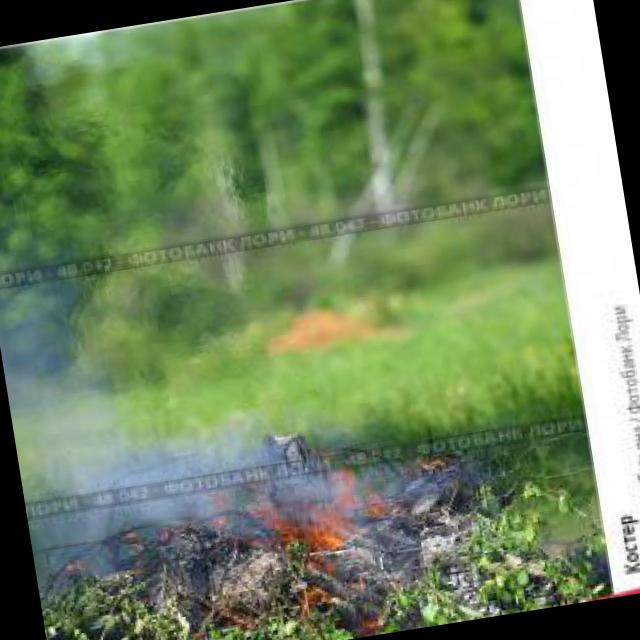fire: (264, 502, 358, 570)
smoke: (0, 139, 420, 621)
